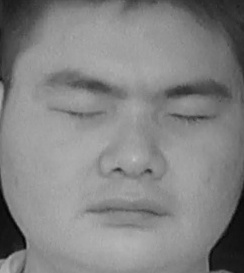blink: (48, 94, 107, 128), (165, 100, 223, 134)
mouth: (85, 184, 169, 233)
